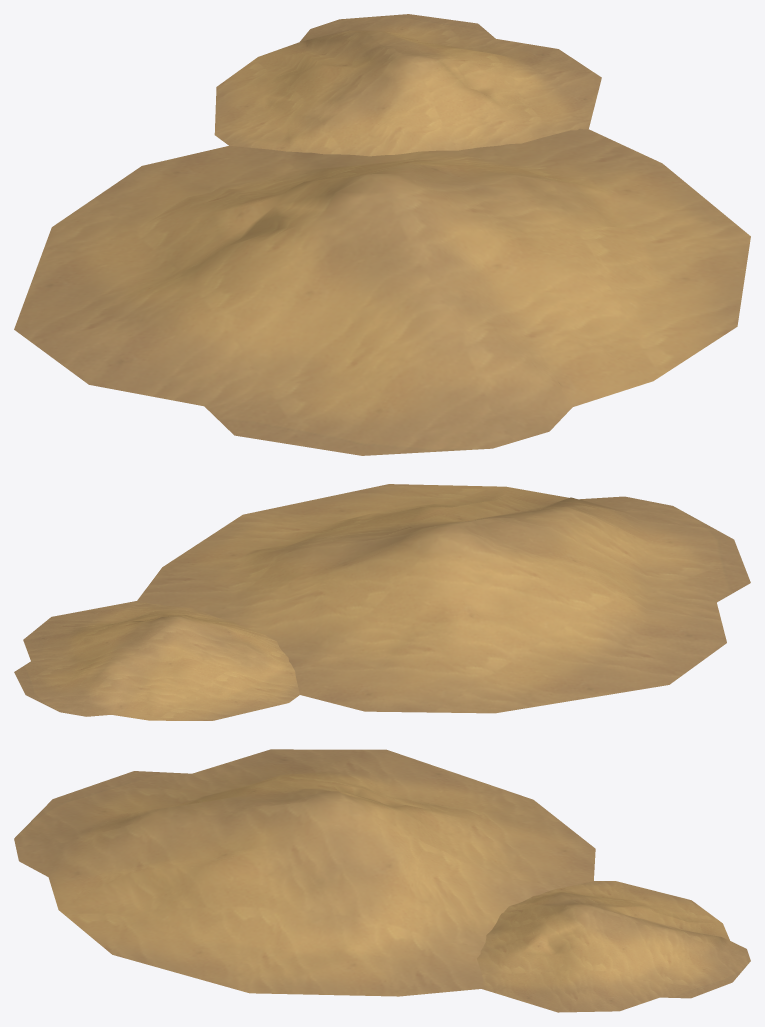
Rendered from Area_13_19.fbx.
3 renders of one model, top to bottom at view 1: azimuth 30°, elevation 25°; view 2: azimuth 150°, elevation 25°; view 3: azimuth 270°, elevation 25°, orthographic. The views are drawn at different scales.
Visible parts, largest first — view 1: Area_13_19; view 2: Area_13_19; view 3: Area_13_19.
Part boxes in pixels (bbox=[...]): Area_13_19: bbox=[14, 14, 750, 455]; Area_13_19: bbox=[14, 484, 750, 720]; Area_13_19: bbox=[14, 749, 750, 1012].
Size of the model in its own units: 4217 by 536 by 4993.
Materials: 1 (1 with a texture image).
